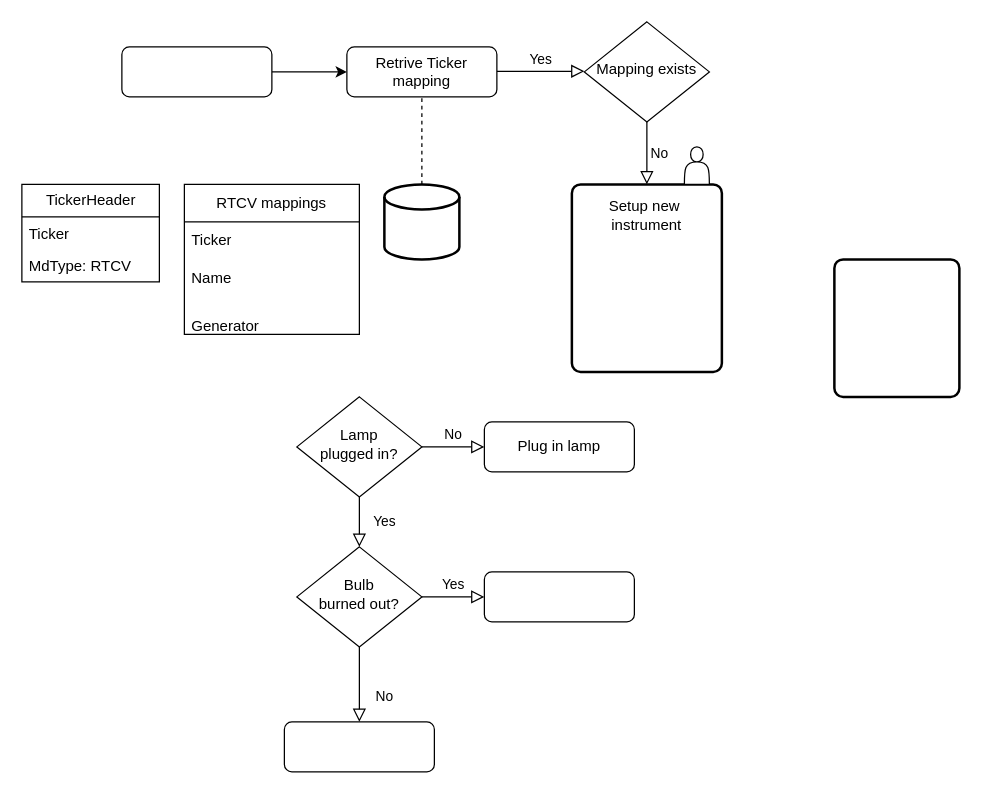
Image size: 983x794. Some labels were removed from this diagram. Here are the shapes that lost their labels. From the top down, the centre of each, then its label:
At (196,71): "JSON payload".
At (421,221): "GMDS DB".
At (558,596): "Replace Bulb".
At (358,746): "Repair Lamp".
